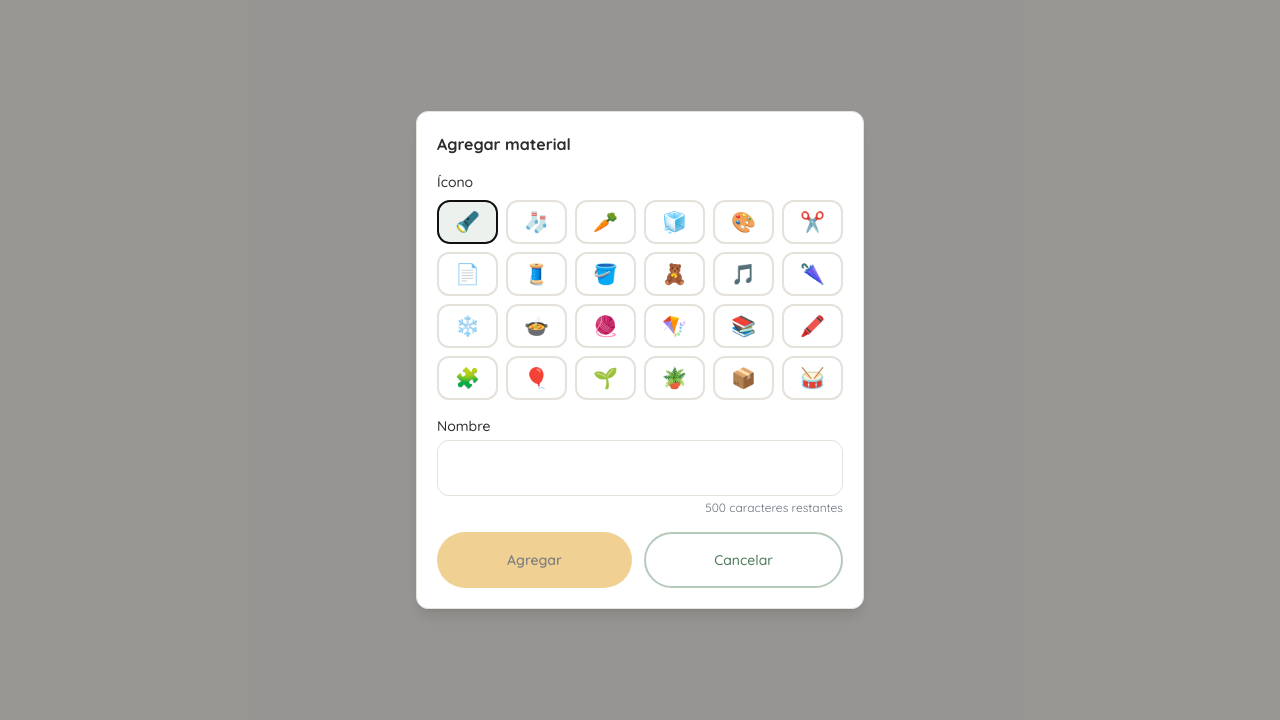
Test: AgregarMaterialForm › muestra el error y mantiene el formulario abierto cuando el alta falla
In the field labelled "Nombre": (640, 468) [437,440,843,496], type "Cartulina"
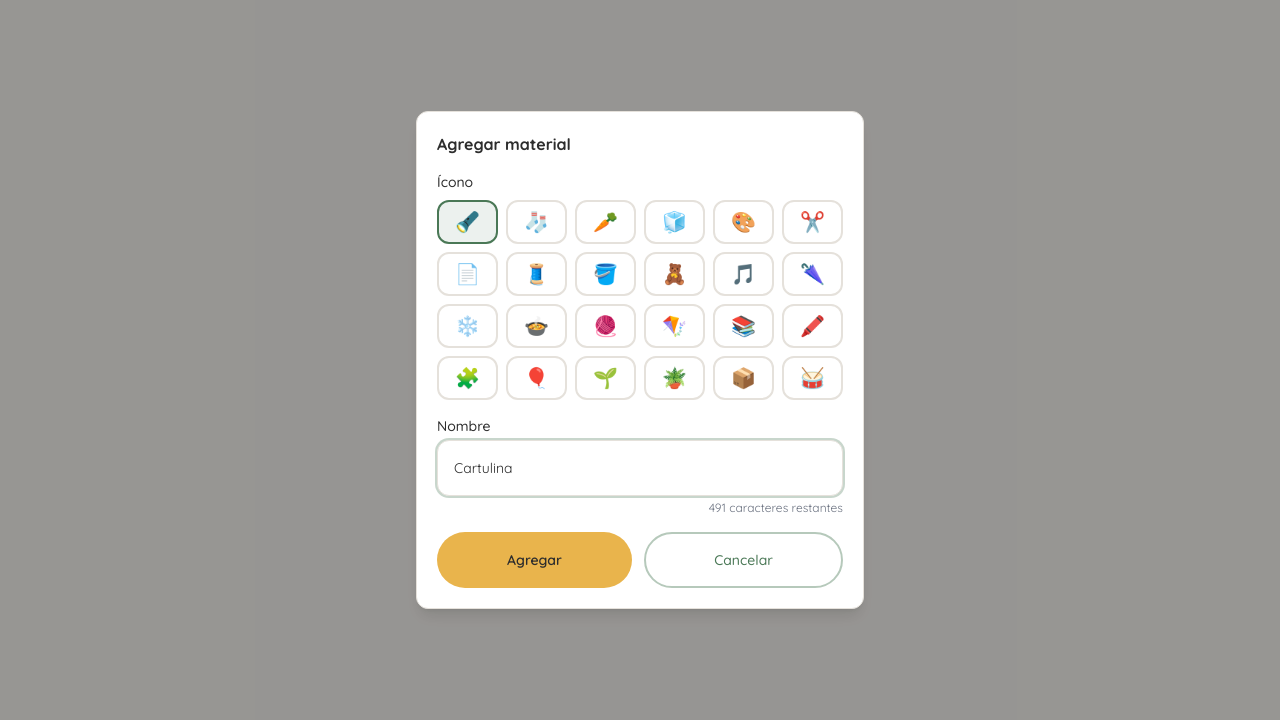
Click the button "Agregar": (534, 560) [437,532,632,588]
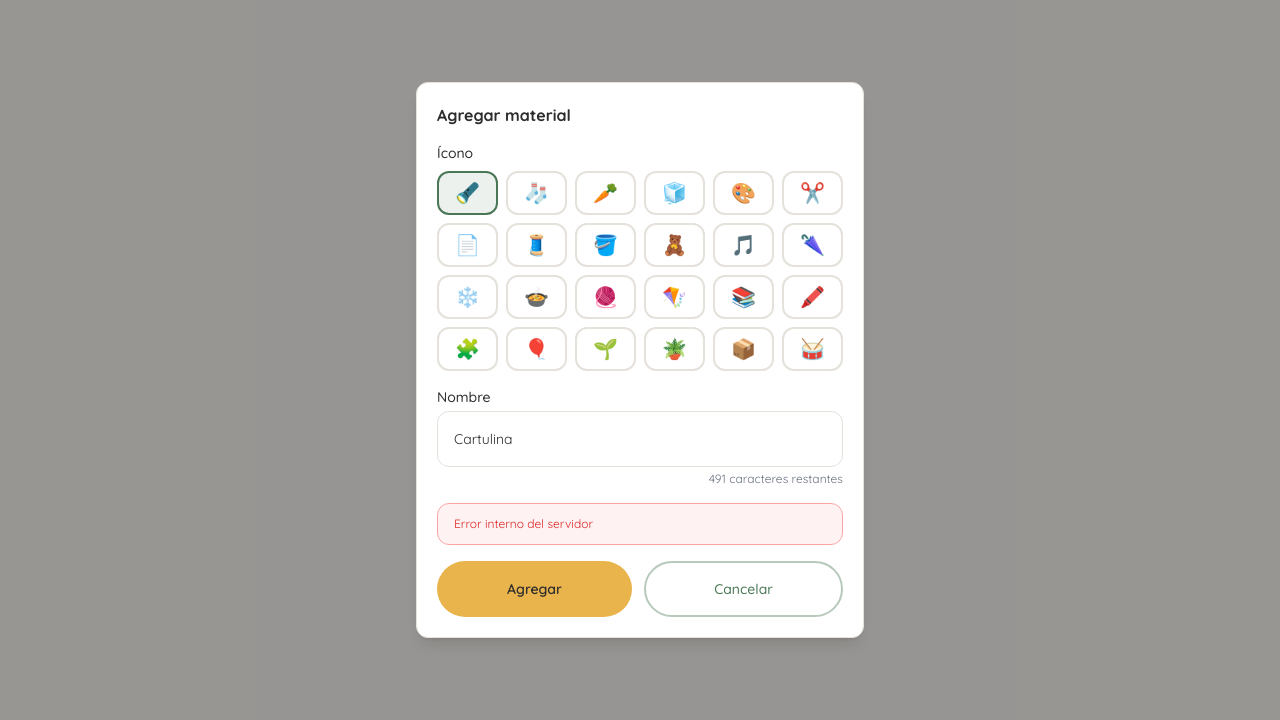
Expected: the dialog is shown, [416,82,864,638]
Now the message reads "Error interno del servidor", box [454,516,593,531]
